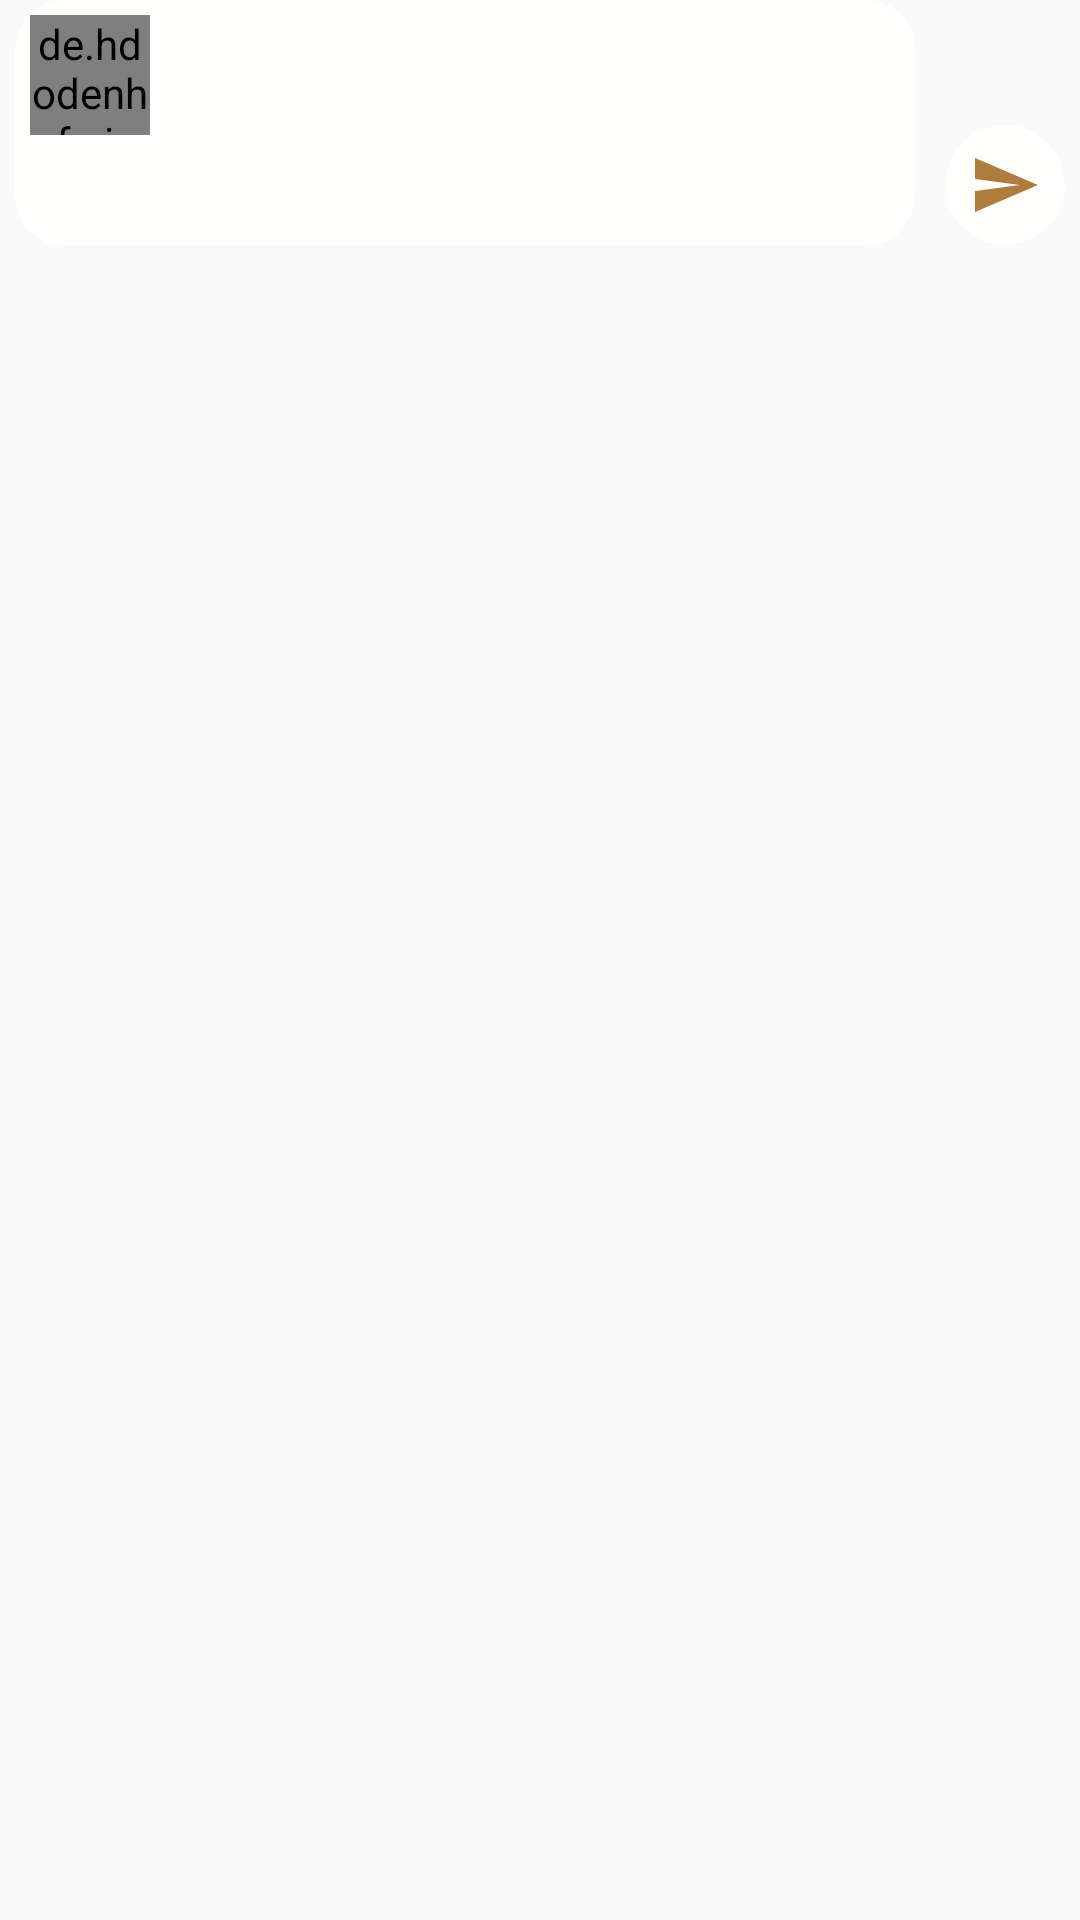

Locate icon controls on the screen. Image size 1080px×1920px, boxes as (x1, y1, x2, y2).
send: (975, 158, 1038, 212)
